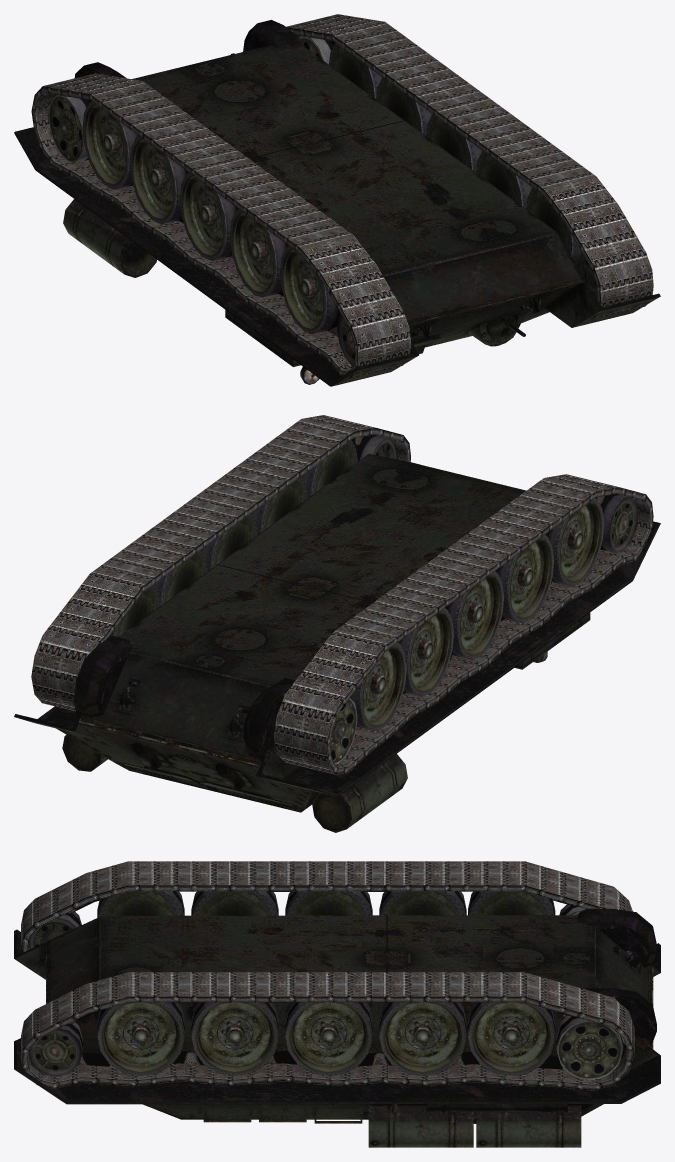
The model's file is tank_zhuzhan_down.FBX.
3 views of the same model, one above another, from view 1: azimuth 30°, elevation 25°; view 2: azimuth 150°, elevation 25°; view 3: azimuth 270°, elevation 25° (orthographic). The views are drawn at different scales.
Visible parts, largest first — view 1: LOD01_t-34-85_whe1l_m1-02; view 2: LOD01_t-34-85_whe1l_m1-02; view 3: LOD01_t-34-85_whe1l_m1-02.
Part boxes in pixels (<box>): LOD01_t-34-85_whe1l_m1-02: <box>14,14,660,386</box>; LOD01_t-34-85_whe1l_m1-02: <box>14,415,660,832</box>; LOD01_t-34-85_whe1l_m1-02: <box>14,861,660,1147</box>.
Bounding box in the file's own units: 31.84 × 17.15 × 62.91.
5 materials, 5 textured.
